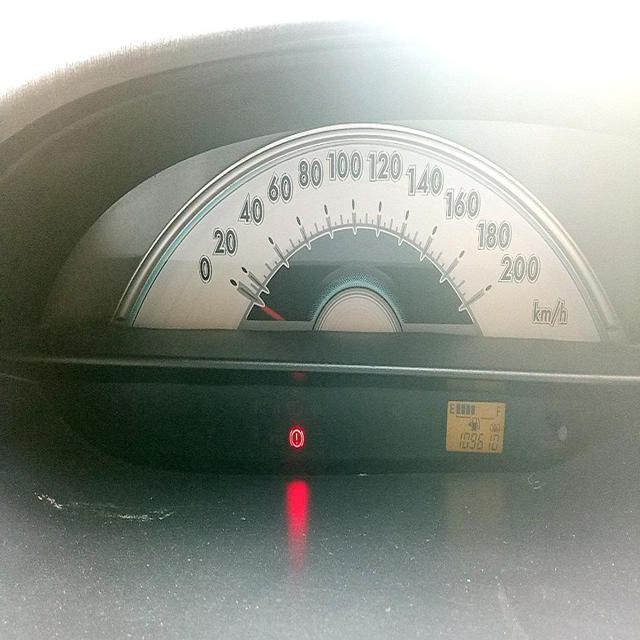odometer: (457, 430, 502, 455)
